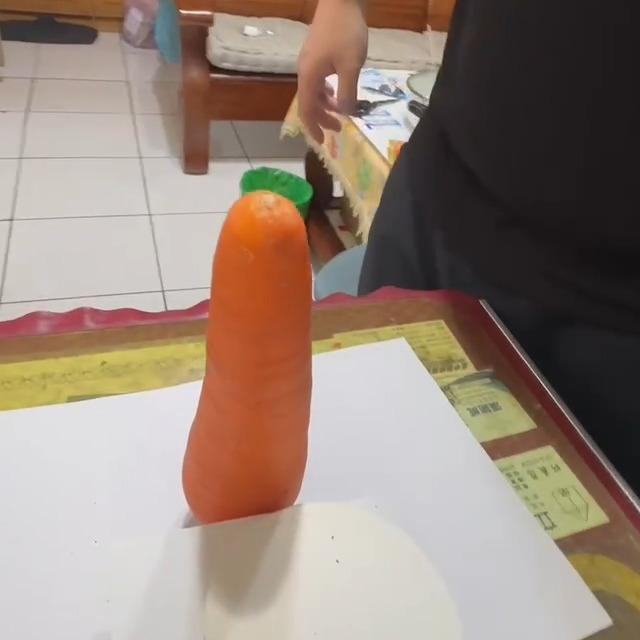carrot: (184, 190, 312, 513)
